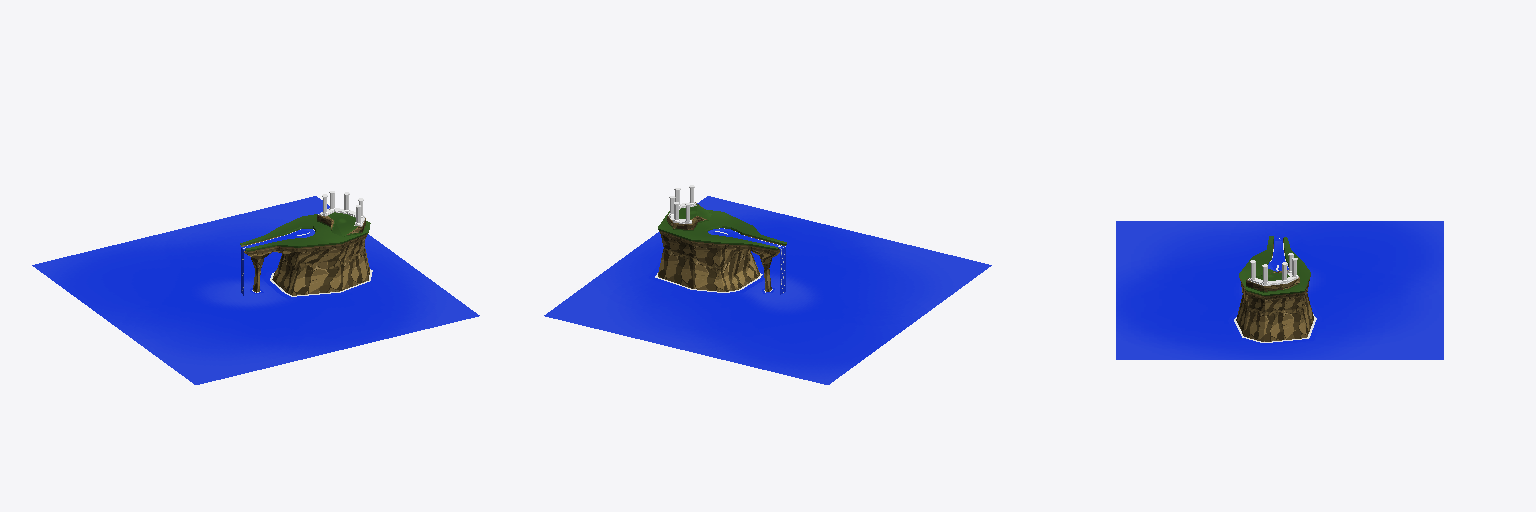
3 renders of one model, left to right at view 1: azimuth 30°, elevation 25°; view 2: azimuth 150°, elevation 25°; view 3: azimuth 270°, elevation 25°, orthographic.
Parts seen in each view (by area): view 1: Plane_Plane.004, cliff_Plane, cliff_ground_Plane.003, cliff.001_Plane.014, Circle, cliff_top_Plane.002; view 2: Plane_Plane.004, cliff_Plane, cliff_ground_Plane.003, cliff_top_Plane.002, cliff.001_Plane.014, Circle; view 3: Plane_Plane.004, cliff_Plane, cliff_ground_Plane.003, cliff.001_Plane.014, Circle.
Part boxes in pixels (left/top/right/bottom): Plane_Plane.004: left=32, top=196, right=479, bottom=384; cliff_Plane: left=244, top=238, right=369, bottom=295; cliff_ground_Plane.003: left=240, top=214, right=370, bottom=249; cliff.001_Plane.014: left=250, top=266, right=377, bottom=299; Circle: left=318, top=191, right=365, bottom=226; cliff_top_Plane.002: left=240, top=232, right=368, bottom=254; Plane_Plane.004: left=544, top=196, right=991, bottom=384; cliff_Plane: left=658, top=234, right=779, bottom=291; cliff_ground_Plane.003: left=658, top=209, right=786, bottom=248; cliff_top_Plane.002: left=658, top=229, right=786, bottom=253; cliff.001_Plane.014: left=649, top=261, right=774, bottom=295; Circle: left=668, top=185, right=696, bottom=223; Plane_Plane.004: left=1116, top=221, right=1443, bottom=359; cliff_Plane: left=1236, top=280, right=1313, bottom=341; cliff_ground_Plane.003: left=1239, top=236, right=1310, bottom=294; cliff.001_Plane.014: left=1228, top=303, right=1321, bottom=345; Circle: left=1248, top=253, right=1298, bottom=285.
Bounding box in the file's own units: 103 × 26.39 × 103.
7 materials, 7 textured.